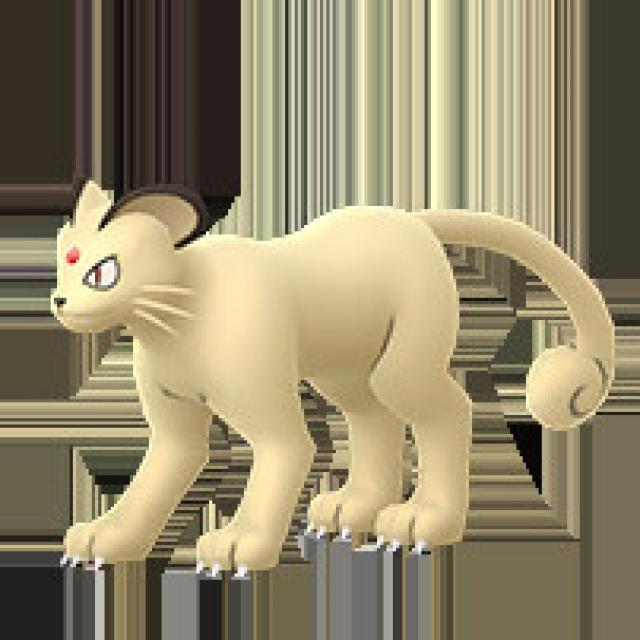Persian: (48, 179, 506, 560)
